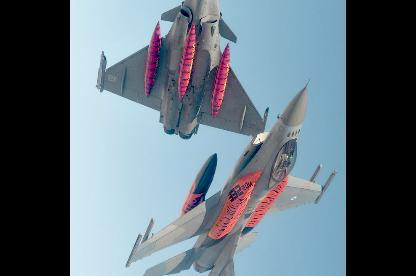F14: (125, 78, 338, 275)
RQ4: (94, 0, 270, 140)
